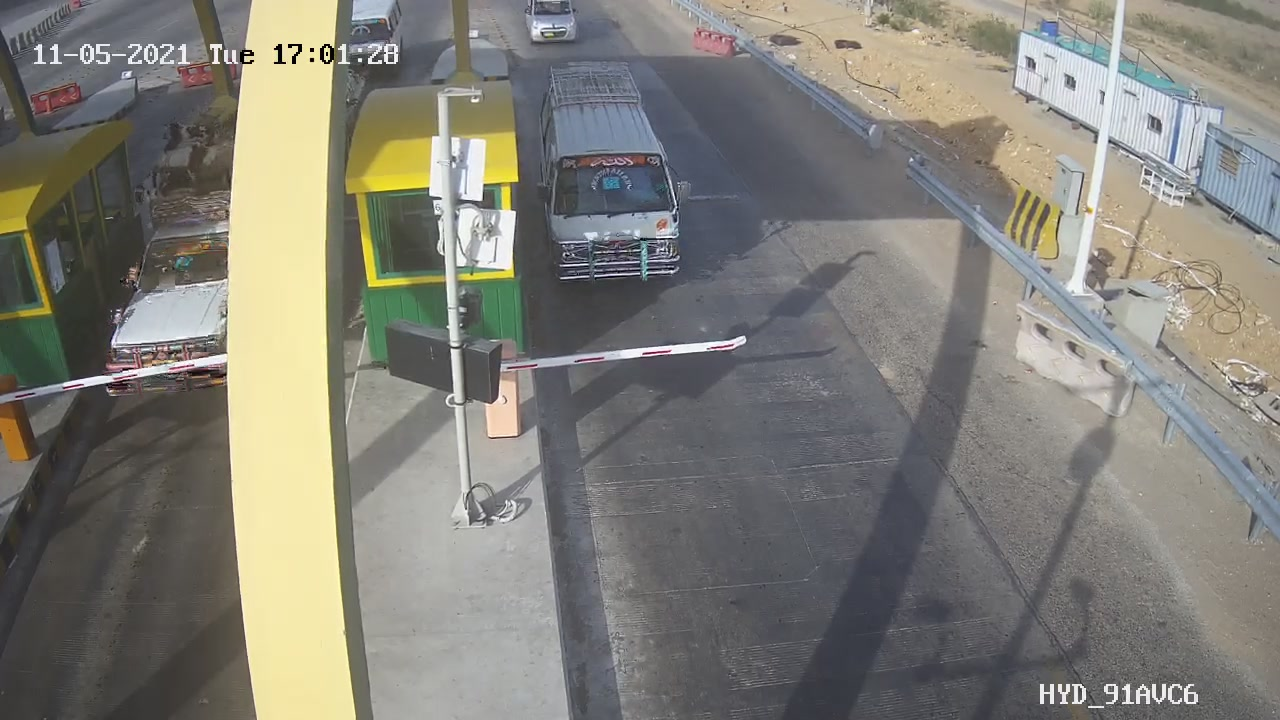F2: (517, 53, 716, 305)
